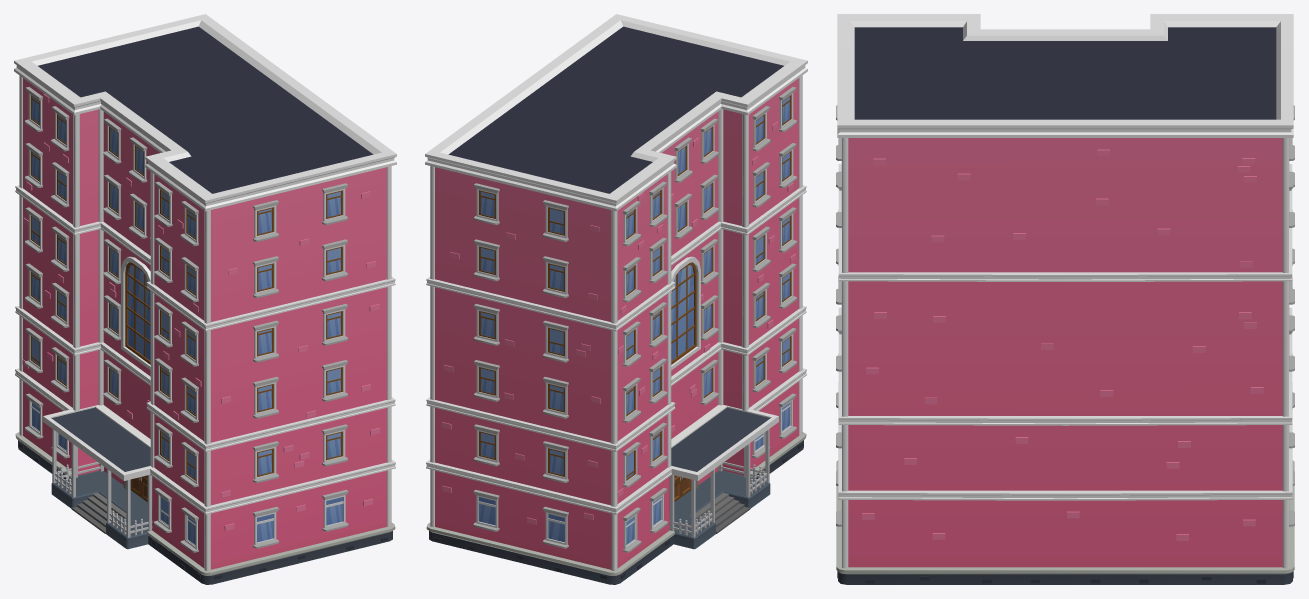
File: Building_5_4_L.glb
3 renders of one model, left to right at view 1: azimuth 30°, elevation 25°; view 2: azimuth 150°, elevation 25°; view 3: azimuth 270°, elevation 25°, orthographic. The views are drawn at different scales.
Parts seen in each view (by area): view 1: Building_5_4_L; view 2: Building_5_4_L; view 3: Building_5_4_L.
Boxes of the visible parts, x1,y1,x2,y2 form: Building_5_4_L: (14, 14, 396, 584); Building_5_4_L: (425, 14, 807, 584); Building_5_4_L: (836, 14, 1294, 584).
Size of the model in its own units: 12.51 by 21.09 by 19.08.
Materials: 3 (3 with a texture image).
